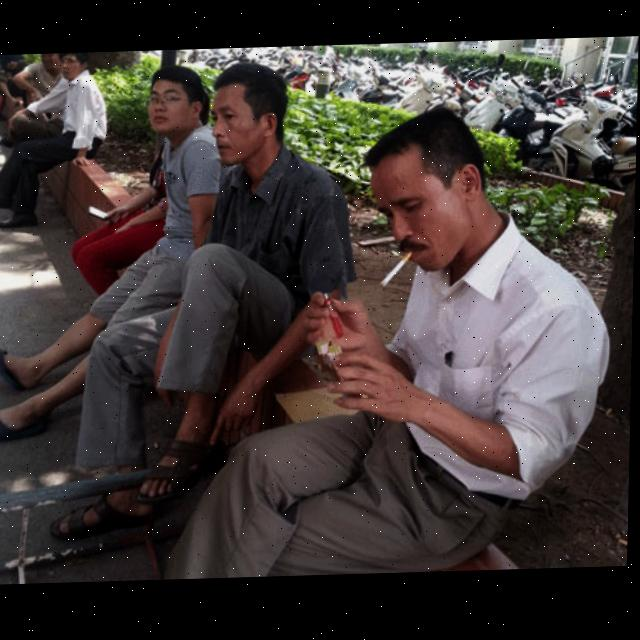cigarette: (381, 254, 415, 291)
